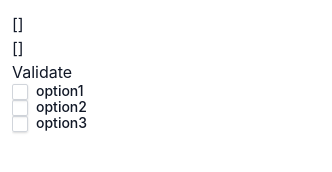
Test: Checkbox Component - TDD Cycle 5 › useCheckboxGroup Hook › should toggle values correctly
Check: the text with test id "selected-values" reads "[]", box [12,14,24,34]
Toggle on
What coordinates should you click on to do the following:
click the checkbox with test id "checkbox-option1"
I would click on:
 (20, 92)
Its box is [12,84,28,100].
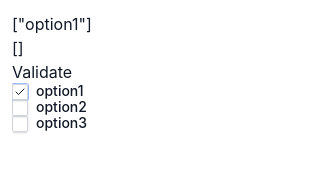
Check: the text with test id "selected-values" reads "[\"option1\"]", box [12,14,92,34]
Toggle off
What coordinates should you click on to do the following:
click the checkbox with test id "checkbox-option1"
I would click on:
 (20, 92)
Its box is [12,84,28,100].
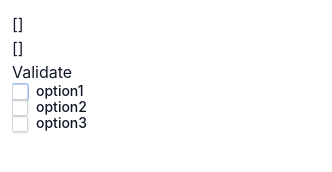
Check: the text with test id "selected-values" reads "[]", box [12,14,24,34]
